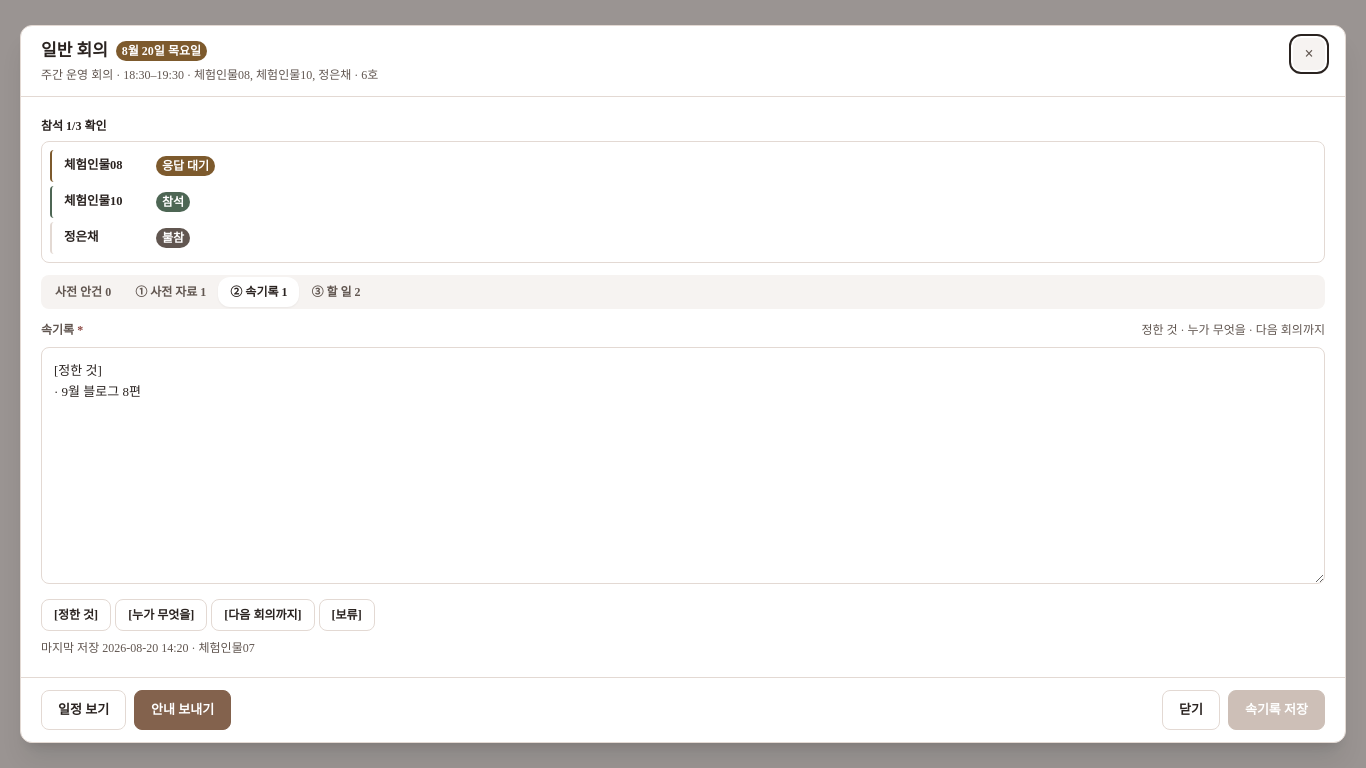
Test: 끝낸 할 일 수도 서버가 센다
The image size is (1366, 768).
Click the button "③ 할 일 2".
click(336, 292)  # box [300,277,373,307]
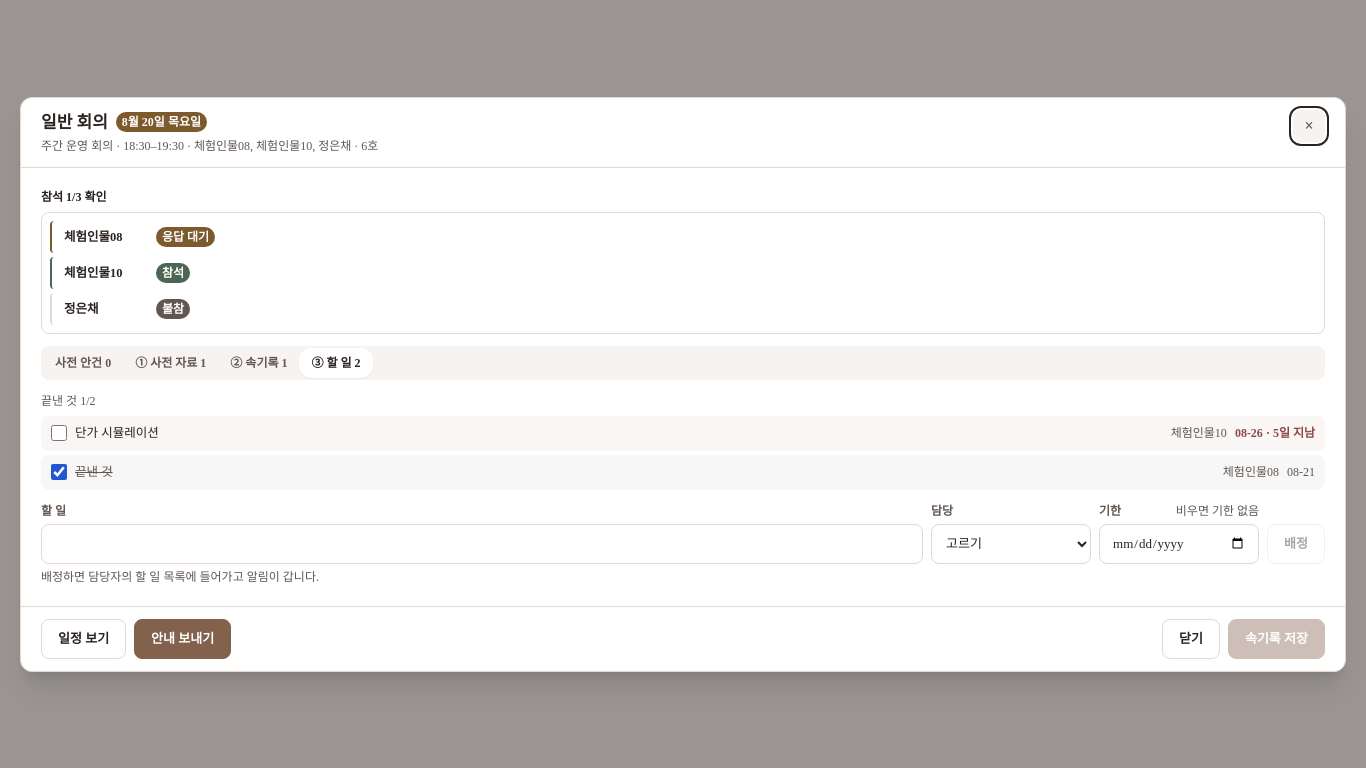
Expected: the text "끝낸 것 1/2" is shown, [41,394,96,408]
Expected: the text "08-26 · 5일 지남" is shown, [1235,424,1315,442]
